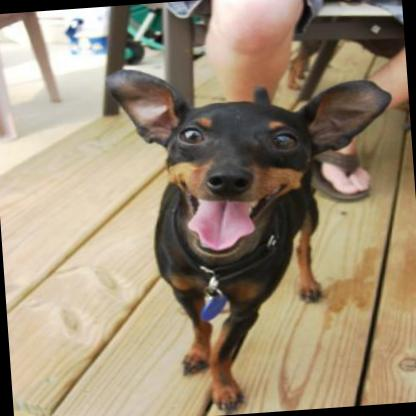miniature_pinscher: (100, 49, 412, 416)
